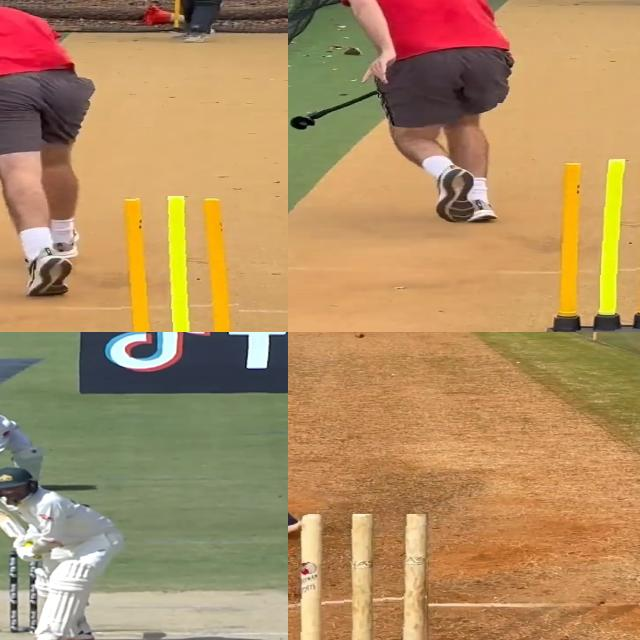Cricket ball: (355, 333, 365, 338)
Stumps: (100, 195, 239, 332), (298, 514, 430, 640), (552, 159, 640, 332)
